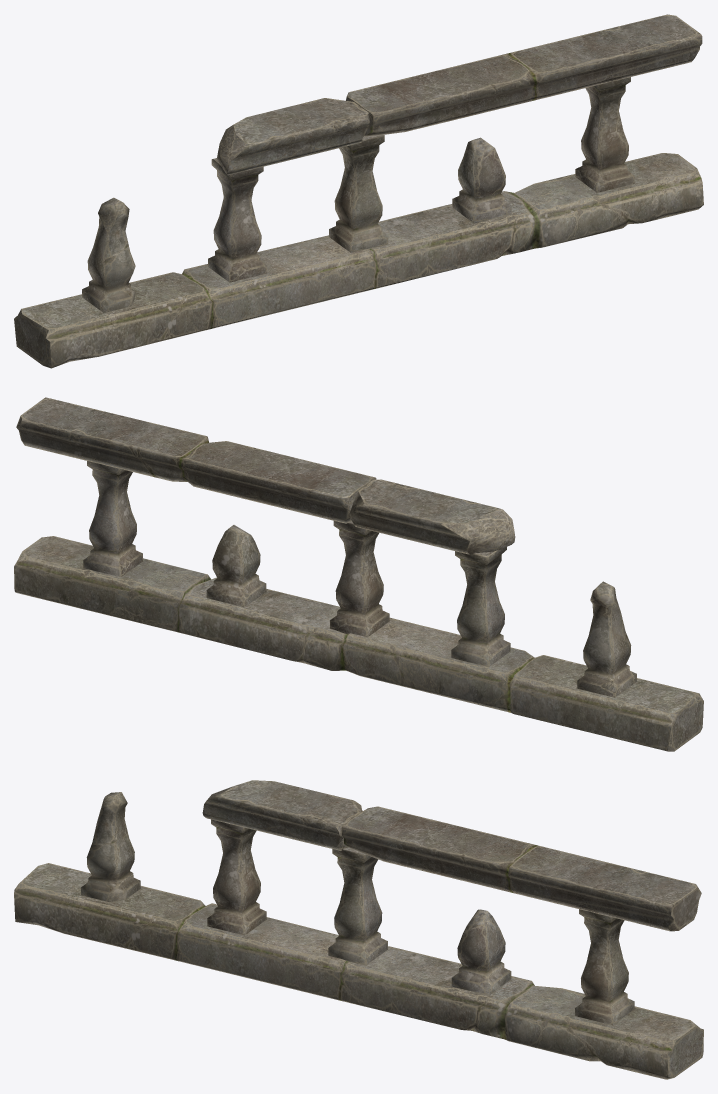
Rendered from SM_Ballustrade_Ruined_02.fbx.
The picture shows the model from 3 angles, top to bottom: view 1: azimuth 30°, elevation 25°; view 2: azimuth 150°, elevation 25°; view 3: azimuth 330°, elevation 25°; orthographic projection.
Visible parts, largest first — view 1: SM_Ballustrade_Ruined_02_LOD0; view 2: SM_Ballustrade_Ruined_02_LOD0; view 3: SM_Ballustrade_Ruined_02_LOD0.
Boxes of the visible parts, x1,y1,x2,y2 form: SM_Ballustrade_Ruined_02_LOD0: [14, 14, 703, 368]; SM_Ballustrade_Ruined_02_LOD0: [14, 397, 703, 751]; SM_Ballustrade_Ruined_02_LOD0: [14, 780, 703, 1079].
Size of what is drawn, in the model's own units: 400 by 101 by 37.49.
